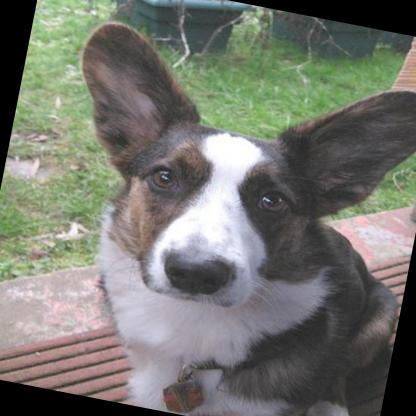Cardigan: (14, 12, 416, 416)
